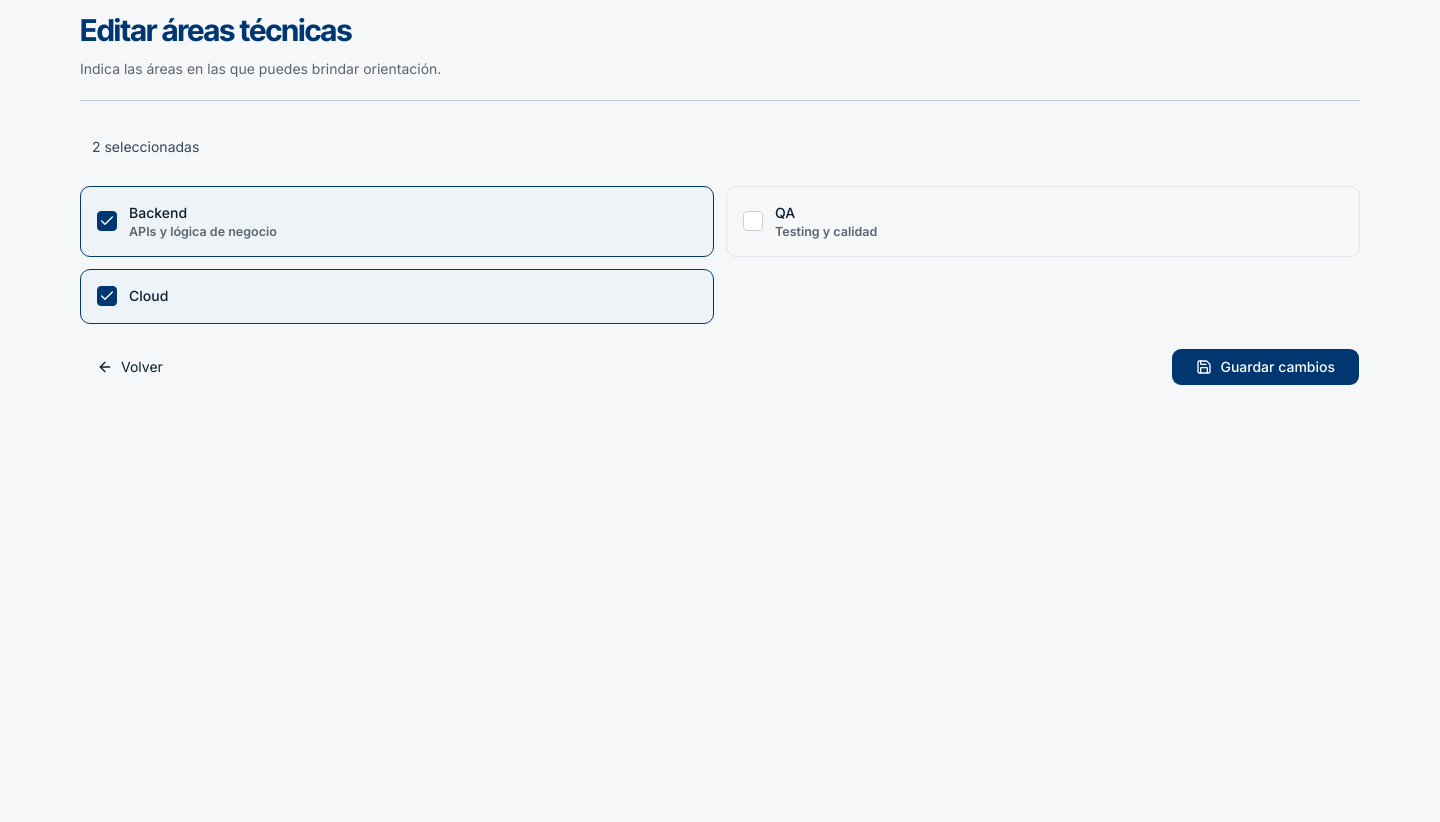
Test case: TechnicalAreasView › guarda UUID reales y muestra el mensaje de exito
This screenshot has width=1440, height=822.
Expected: the text "2 seleccionadas" is shown, 80,125 -> 1360,170
Click the checkbox labelled "QA Testing y calidad".
click(826, 231)  # box 726,186 -> 1360,257
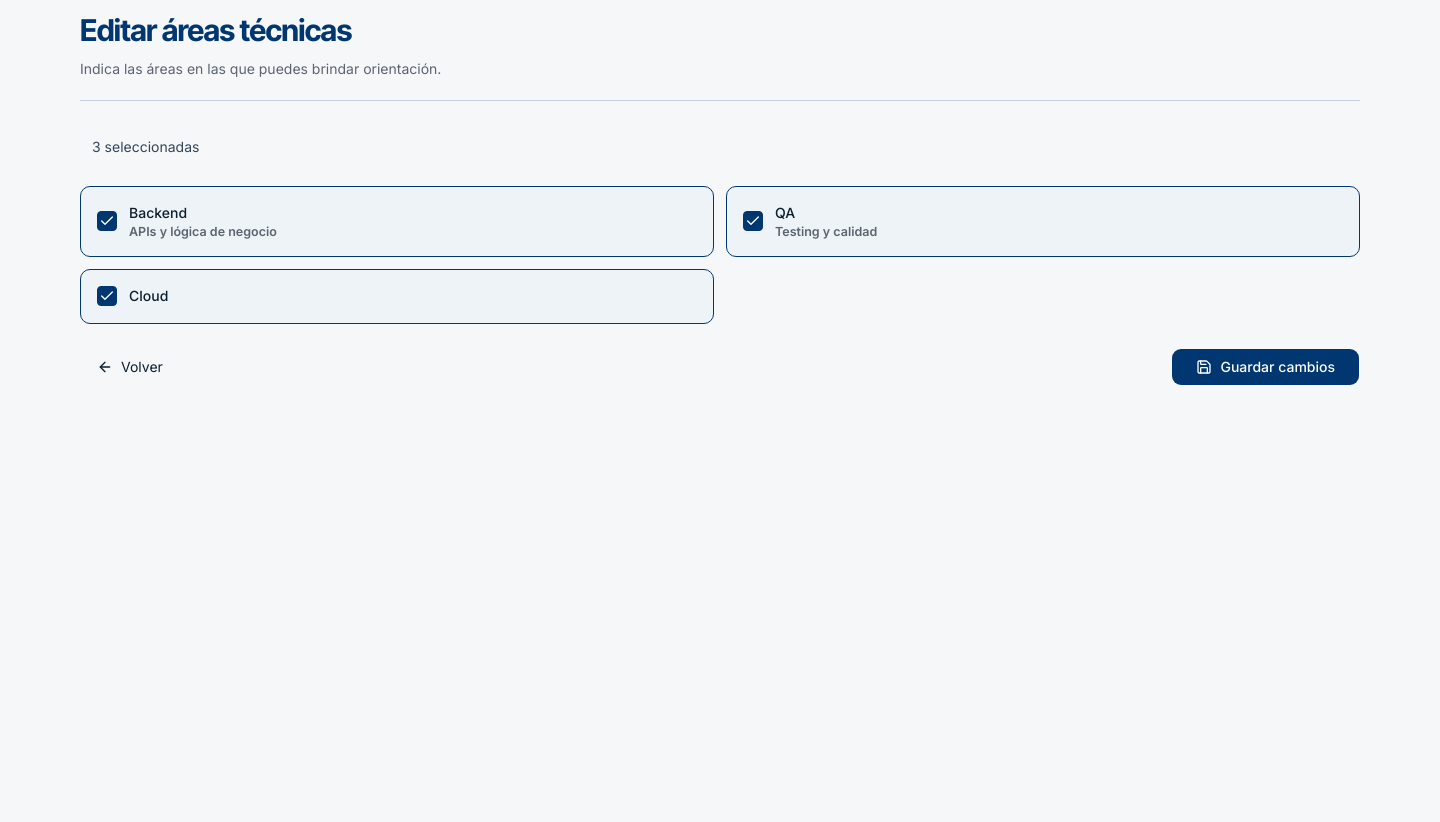
Click the button "Guardar cambios".
click(1266, 367)  # box 1172,348 -> 1360,386
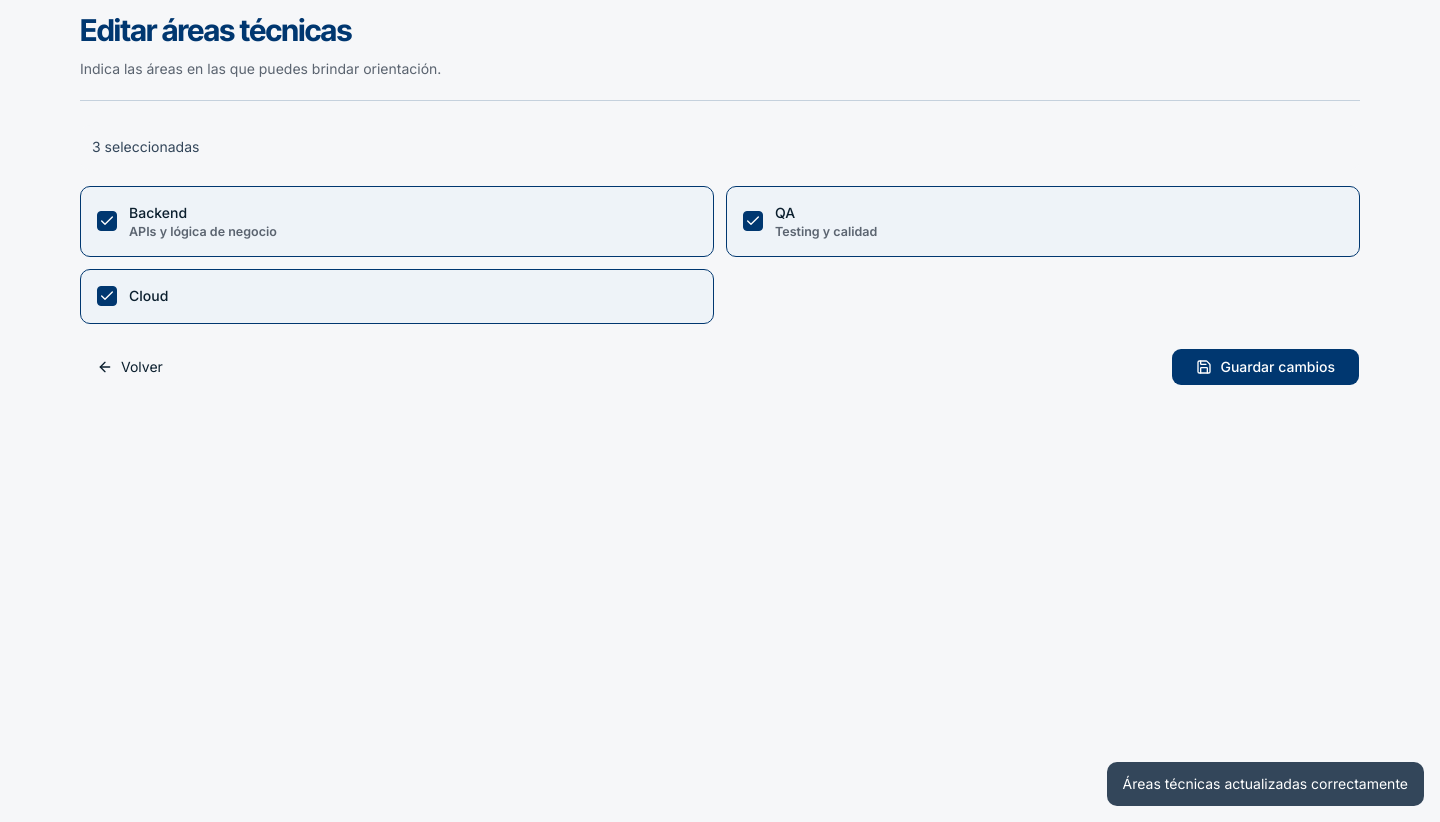
Now the text "Áreas técnicas actualizadas correctamente" is shown, box 1107,762 -> 1424,806
